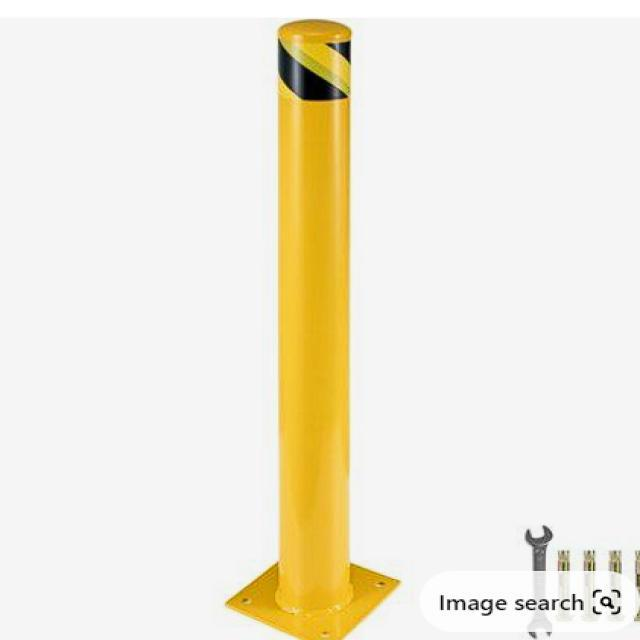Bollard: (274, 15, 352, 596)
